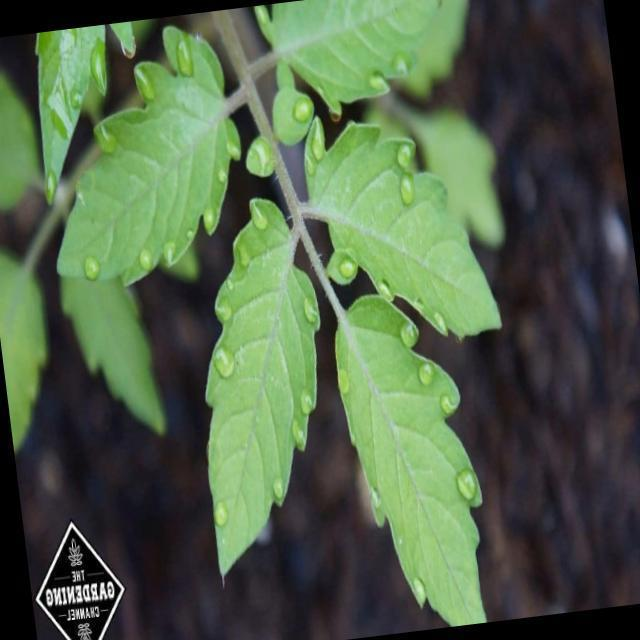Healthy Leaf: (166, 190, 348, 582), (12, 9, 253, 300), (328, 276, 497, 636), (287, 101, 504, 352), (268, 84, 320, 144), (242, 128, 276, 183)
